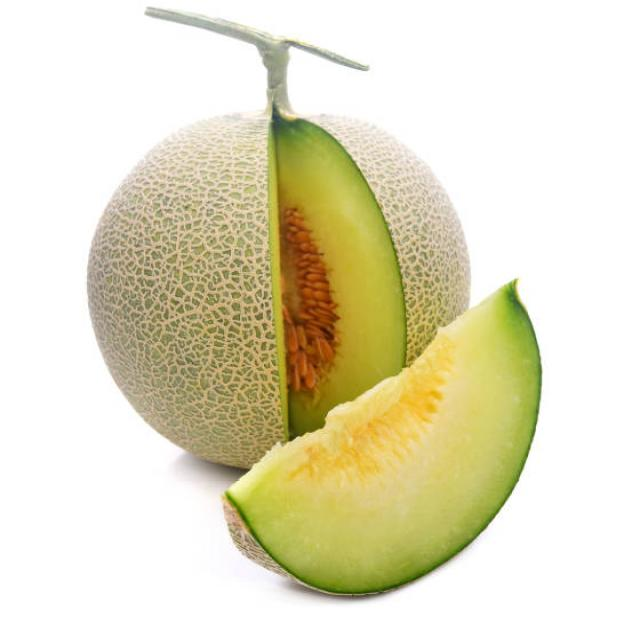Melon: (85, 95, 447, 377), (215, 383, 548, 601)
